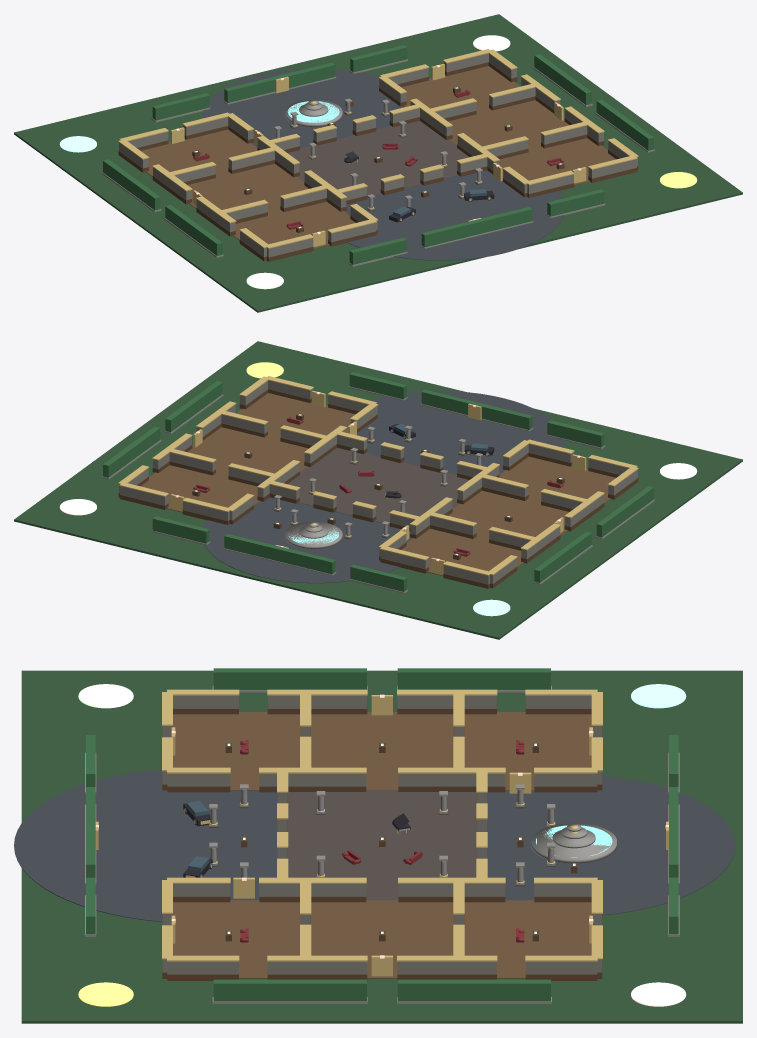
Rendered from Map1_Elcilik_Kompleksi_3v3v3v3.glb.
3 views of the same model, one above another, from view 1: azimuth 30°, elevation 25°; view 2: azimuth 150°, elevation 25°; view 3: azimuth 270°, elevation 25° (orthographic). The views are drawn at different scales.
Parts seen in each view (by area): view 1: Floor_Estate_Ground, Cylinder, Floor_WestWing, Floor_EastWing, Floor_CenterPalace, Cylinder.001, Hedge_South_Arc1_Hedge_1, Hedge_North_Arc1_Hedge_1, Hedge_East_Maze_Hedge_1, Hedge_East_Maze_Hedge_0, Hedge_West_Maze_Hedge_1, Hedge_West_Maze_Hedge_0 (+9 smaller); view 2: Floor_Estate_Ground, Floor_WestWing, Floor_EastWing, Cylinder, Cylinder.001, Floor_CenterPalace, Hedge_North_Arc1_Hedge_1, Hedge_South_Arc1_Hedge_1, Hedge_East_Maze_Hedge_0, Hedge_East_Maze_Hedge_1, Hedge_West_Maze_Hedge_0, Hedge_West_Maze_Hedge_1 (+8 smaller); view 3: Floor_Estate_Ground, Cylinder, Floor_EastWing, Floor_WestWing, Cylinder.001, Floor_CenterPalace, Hedge_East_Maze_Hedge_0, Hedge_East_Maze_Hedge_1, Hedge_West_Maze_Hedge_0, Hedge_West_Maze_Hedge_1, Fountain_OuterPool, EastWing_E_Wall_2 (+37 smaller).
Boxes of the visible parts, x1=… form: Floor_Estate_Ground: x1=14, y1=14, x2=742, y2=312; Cylinder: x1=344, y1=170, x2=563, y2=260; Floor_WestWing: x1=141, y1=129, x2=355, y2=248; Floor_EastWing: x1=401, y1=66, x2=615, y2=185; Floor_CenterPalace: x1=288, y1=120, x2=469, y2=197; Cylinder.001: x1=202, y1=68, x2=404, y2=147; Hedge_South_Arc1_Hedge_1: x1=421, y1=207, x2=532, y2=247; Hedge_North_Arc1_Hedge_1: x1=224, y1=62, x2=335, y2=102; Hedge_East_Maze_Hedge_1: x1=534, y1=54, x2=591, y2=105; Hedge_East_Maze_Hedge_0: x1=596, y1=99, x2=653, y2=150; Hedge_West_Maze_Hedge_1: x1=103, y1=159, x2=160, y2=210; Hedge_West_Maze_Hedge_0: x1=165, y1=205, x2=222, y2=255; Floor_Estate_Ground: x1=14, y1=341, x2=742, y2=639; Floor_WestWing: x1=401, y1=456, x2=615, y2=575; Floor_EastWing: x1=141, y1=393, x2=355, y2=512; Cylinder: x1=357, y1=391, x2=565, y2=474; Cylinder.001: x1=203, y1=497, x2=412, y2=583; Floor_CenterPalace: x1=287, y1=447, x2=468, y2=524; Hedge_North_Arc1_Hedge_1: x1=224, y1=534, x2=335, y2=574; Hedge_South_Arc1_Hedge_1: x1=421, y1=389, x2=532, y2=429; Hedge_East_Maze_Hedge_0: x1=165, y1=381, x2=222, y2=432; Hedge_East_Maze_Hedge_1: x1=103, y1=426, x2=160, y2=477; Hedge_West_Maze_Hedge_0: x1=596, y1=486, x2=653, y2=537; Hedge_West_Maze_Hedge_1: x1=534, y1=532, x2=591, y2=582; Floor_Estate_Ground: x1=21, y1=670, x2=742, y2=1023; Cylinder: x1=14, y1=769, x2=277, y2=921; Floor_EastWing: x1=172, y1=900, x2=591, y2=978; Floor_WestWing: x1=172, y1=712, x2=591, y2=790; Cylinder.001: x1=487, y1=775, x2=735, y2=915; Floor_CenterPalace: x1=288, y1=790, x2=476, y2=900; Hedge_East_Maze_Hedge_0: x1=213, y1=979, x2=366, y2=1001; Hedge_East_Maze_Hedge_1: x1=397, y1=979, x2=550, y2=1001; Hedge_West_Maze_Hedge_0: x1=213, y1=668, x2=366, y2=689; Hedge_West_Maze_Hedge_1: x1=397, y1=668, x2=550, y2=689; Fountain_OuterPool: x1=531, y1=823, x2=616, y2=863; EastWing_E_Wall_2: x1=397, y1=961, x2=496, y2=974.
Bounding box in the file's own units: 108 × 3.4 × 95.
